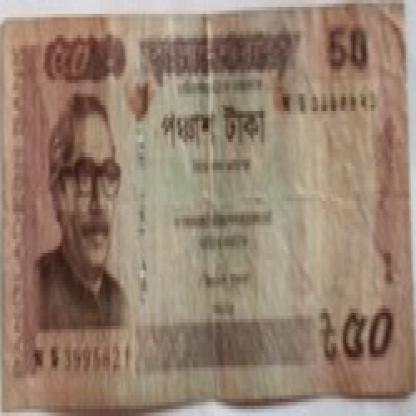Fifty taka: (331, 295, 399, 378), (42, 35, 102, 100)
